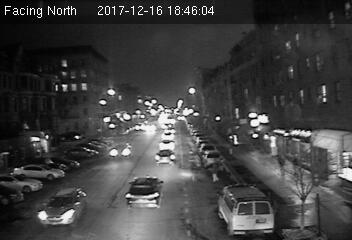car: (39, 188, 87, 229), (126, 175, 164, 211), (109, 142, 135, 160), (155, 149, 176, 166), (201, 150, 221, 165)
police: (216, 183, 274, 236)
